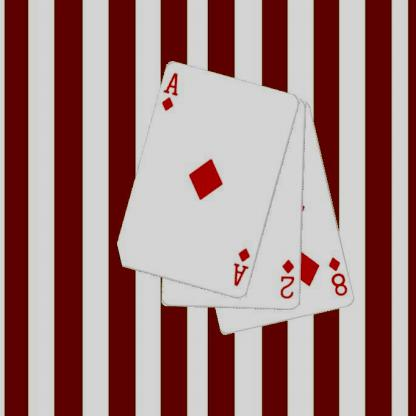2D: (278, 257, 297, 301)
8D: (326, 254, 349, 298)
AD: (231, 245, 251, 288), (159, 70, 179, 112)
